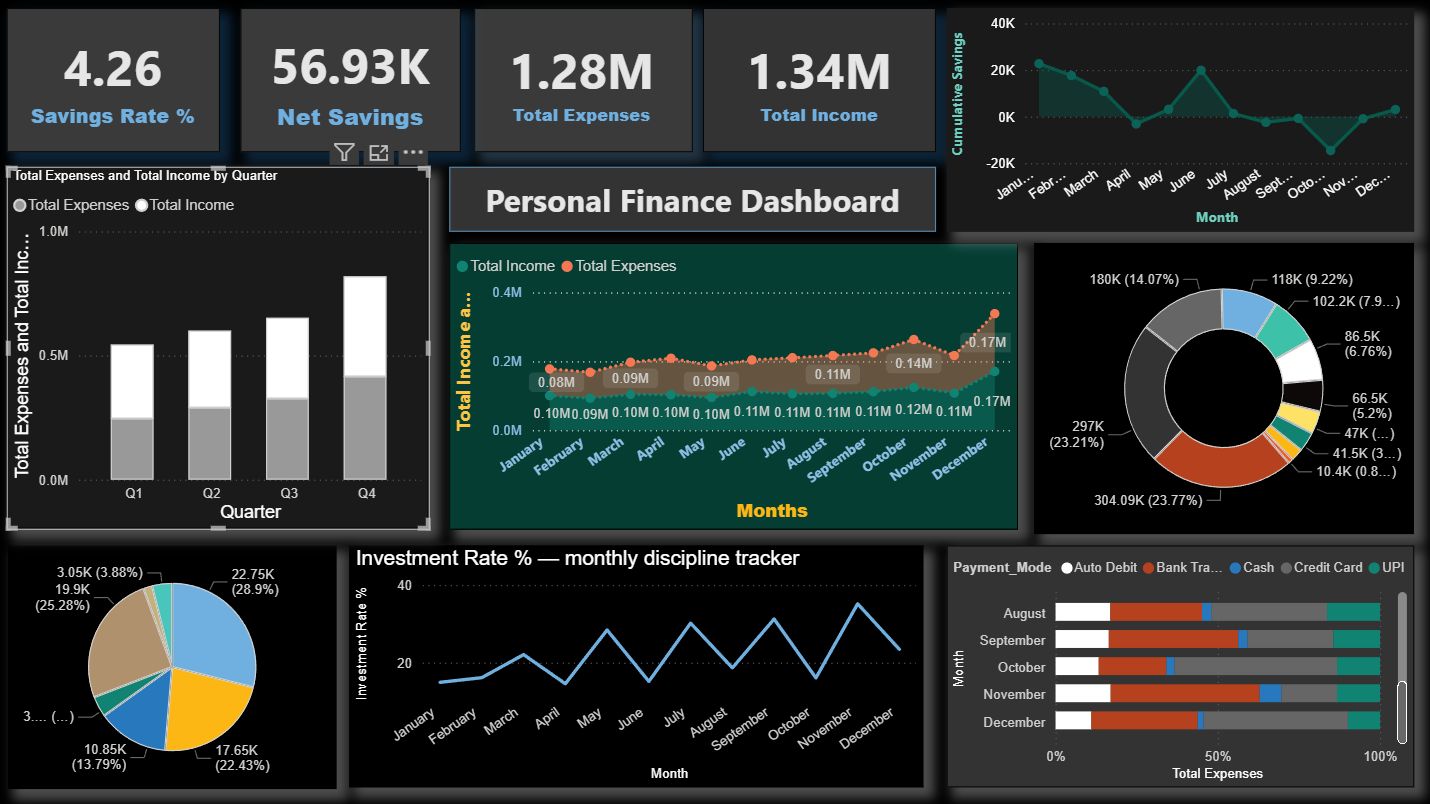

The dashboard page shown, as its layout file describes it:
{"tool":"powerbi","page":{"name":"Page 1","canvas":[1280,720],"ordinal":0},"visuals":[{"type":"card","fields":{"Values":["FinanceData.Total Expense"]},"box":[425.6,9.3,195.3,129.1],"z":0},{"type":"card","fields":{"Values":["FinanceData.Total Income"]},"box":[630.2,9.3,208.1,129.1],"z":1000},{"type":"card","fields":{"Values":["FinanceData.Net Savings"]},"box":[216.3,9.3,196.5,129.1],"z":2000},{"type":"card","fields":{"Values":["FinanceData.Savings Rate %"]},"box":[8.1,9.3,190.7,129.1],"z":3000},{"type":"stackedAreaChart","fields":{"Category":["FinanceData.Month"],"Y":["FinanceData.Total Income","FinanceData.Total Expenses"]},"box":[403.5,218.6,508.1,255.8],"z":4000},{"type":"areaChart","fields":{"Category":["FinanceData.Month"],"Y":["FinanceData.Cumulative Savings"]},"box":[847.5,8.9,417.6,199.9],"z":5000},{"type":"pieChart","fields":{"Category":["FinanceData.Month"],"Y":["FinanceData.Net Savings"]},"box":[8.8,488.8,293.8,217.5],"z":6000},{"type":"donutChart","fields":{"Category":["FinanceData.Category"],"Y":["FinanceData.Total Expenses"]},"box":[925.7,218.9,339.5,260.2],"z":7000},{"type":"hundredPercentStackedBarChart","fields":{"Category":["FinanceData.Month"],"Y":["FinanceData.Total Expenses"],"Series":["FinanceData.Payment_Mode"]},"box":[847.7,489.5,417.4,216.3],"z":8000},{"type":"columnChart","fields":{"Y":["FinanceData.Total Expenses","FinanceData.Total Income"],"Category":["FinanceData.Quarter"]},"box":[8.1,151.2,376.7,323.3],"z":9000},{"type":"lineChart","title":"Investment Rate % — monthly discipline tracker","fields":{"Category":["FinanceData.Month"],"Y":["FinanceData.Investment Rate %"]},"box":[314,489.5,512.8,216.3],"z":10000},{"type":"shape","box":[403.5,151.2,434.9,58.1],"z":11000}]}

Visuals, with their boxes in screenshot pixels (x1, y1, x2, y2), scaled from the page's 1280x720 canvas onto the 1430x804 screenshot:
card - FinanceData.Total Expense: box(475, 10, 694, 155)
card - FinanceData.Total Income: box(704, 10, 937, 155)
card - FinanceData.Net Savings: box(242, 10, 461, 155)
card - FinanceData.Savings Rate %: box(9, 10, 222, 155)
stackedAreaChart - FinanceData.Month x FinanceData.Total Income: box(451, 244, 1018, 530)
areaChart - FinanceData.Month x FinanceData.Cumulative Savings: box(947, 10, 1413, 233)
pieChart - FinanceData.Month x FinanceData.Net Savings: box(10, 546, 338, 789)
donutChart - FinanceData.Category x FinanceData.Total Expenses: box(1034, 244, 1413, 535)
hundredPercentStackedBarChart - FinanceData.Month x FinanceData.Total Expenses: box(947, 547, 1413, 788)
columnChart - FinanceData.Total Expenses x FinanceData.Total Income: box(9, 169, 430, 530)
"Investment Rate % — monthly discipline tracker" lineChart: box(351, 547, 924, 788)
shape: box(451, 169, 937, 234)
